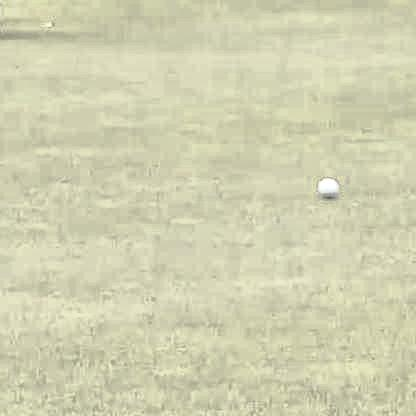golfball: (314, 174, 337, 197)
